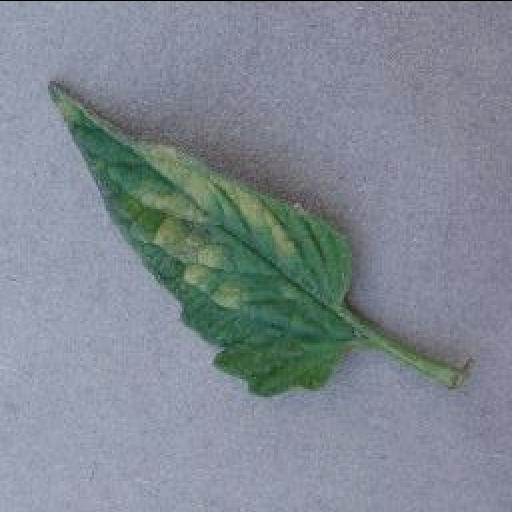disease_tomato: (46, 76, 354, 397)
